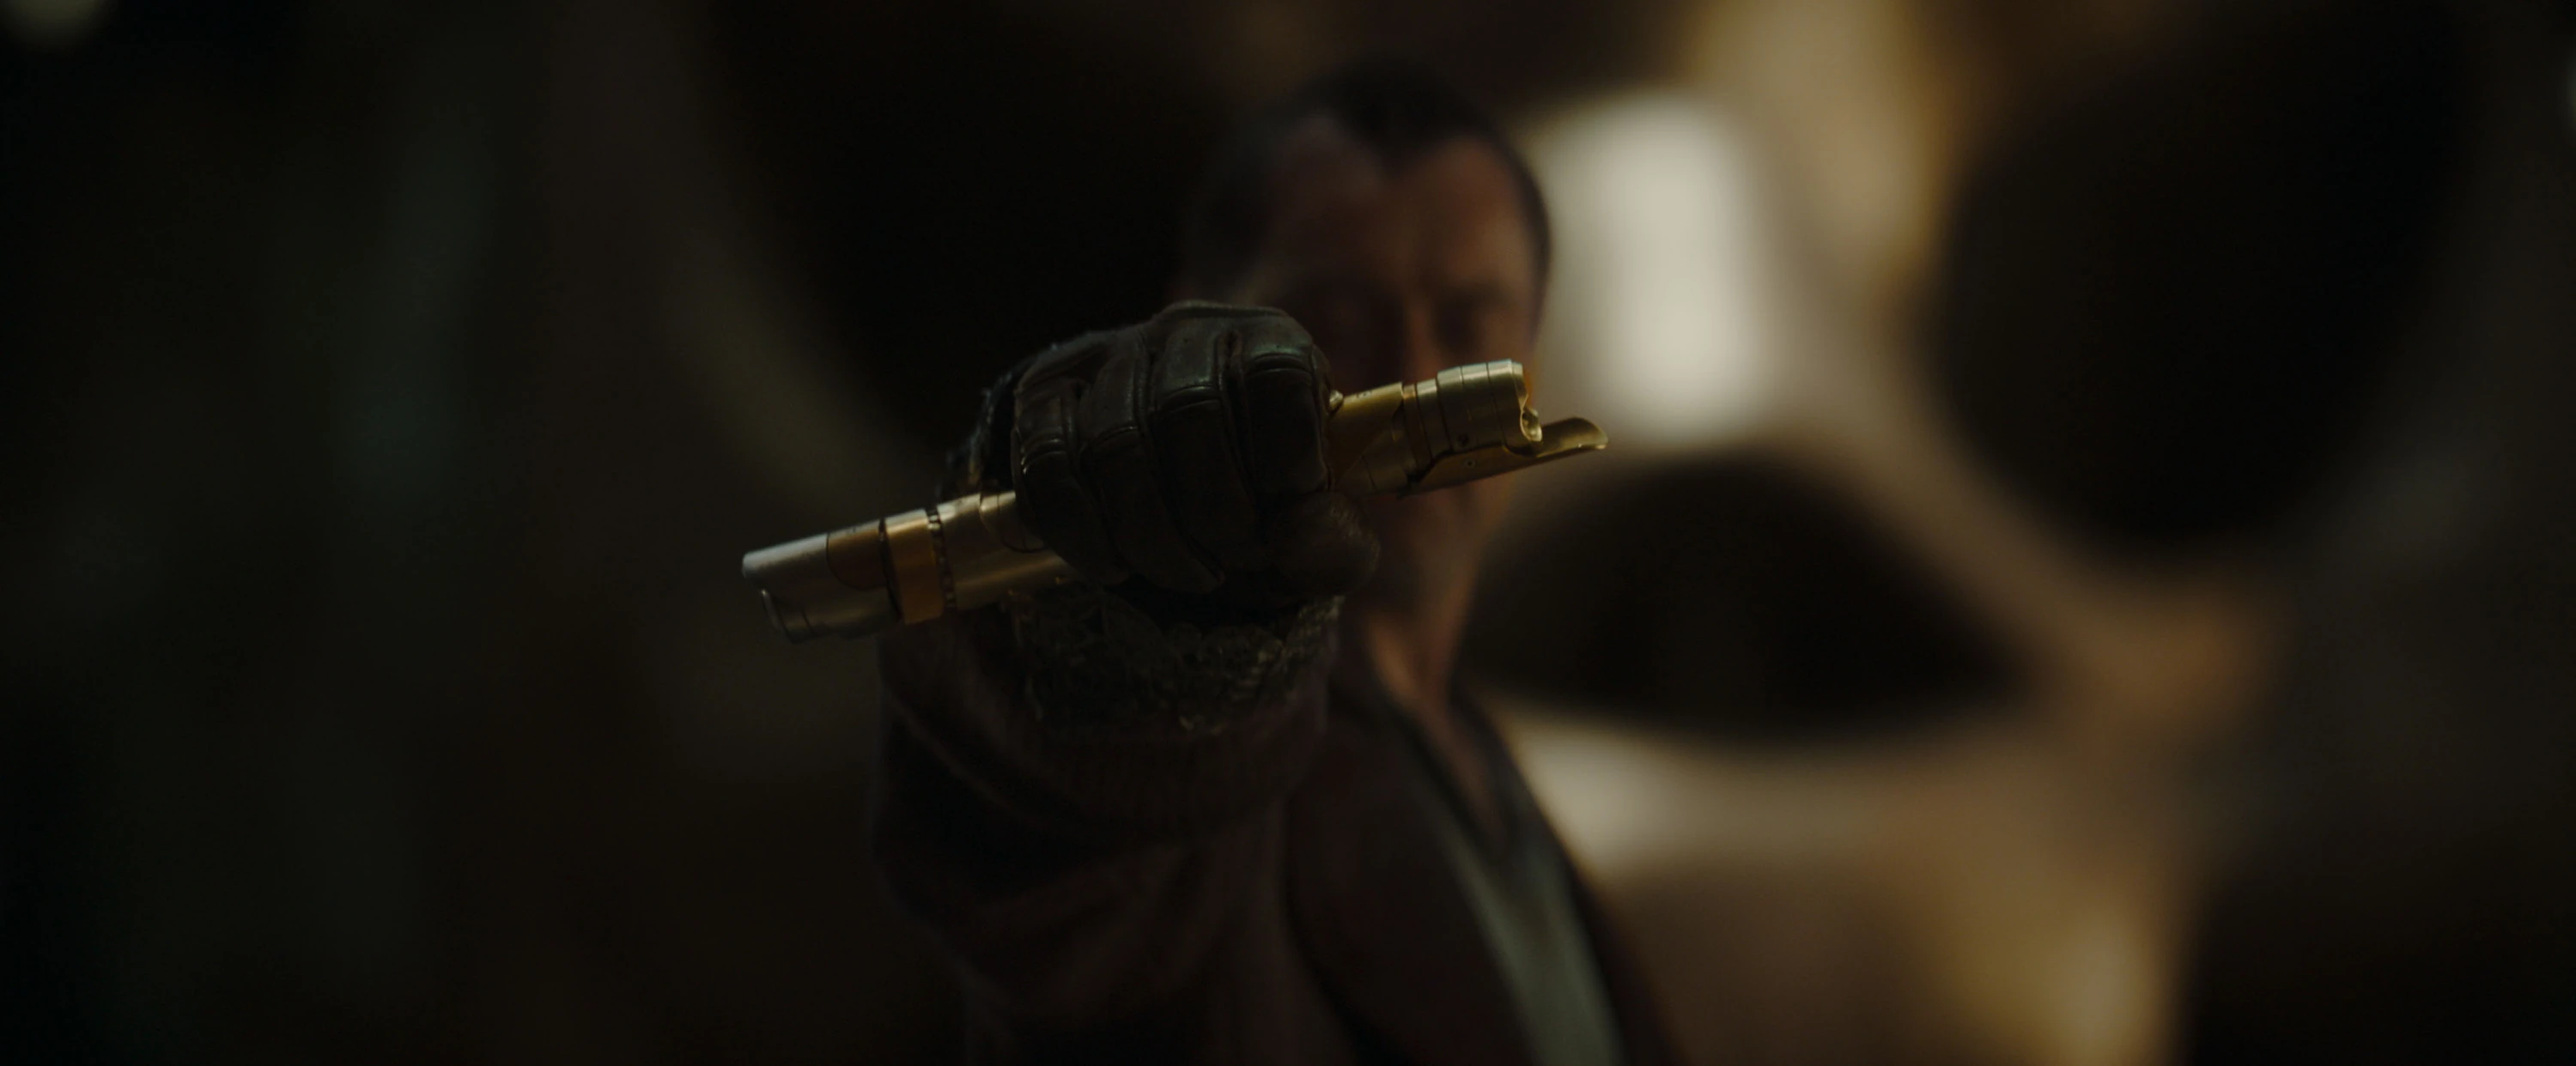Dalek: (733, 353, 1620, 655)
